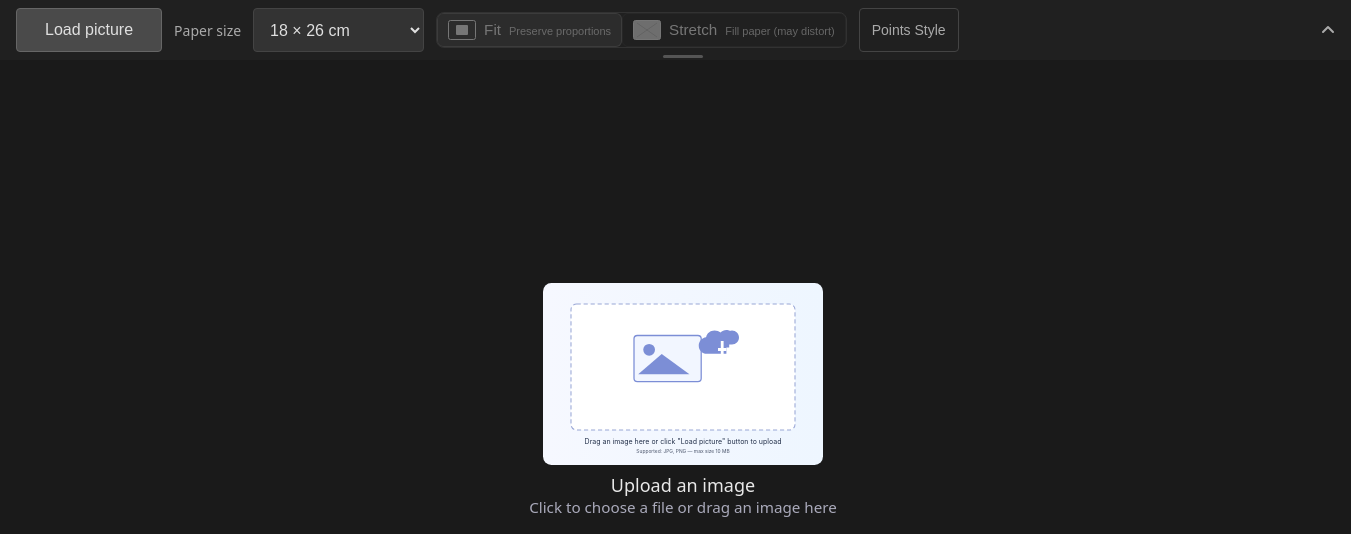
Test: custom size inputs are shown when "Custom…" is selected
The image size is (1351, 534).
Select "Custom…" in the dropdown labelled "Paper size": {"x": 339, "y": 30} left=253, top=8, right=424, bottom=52
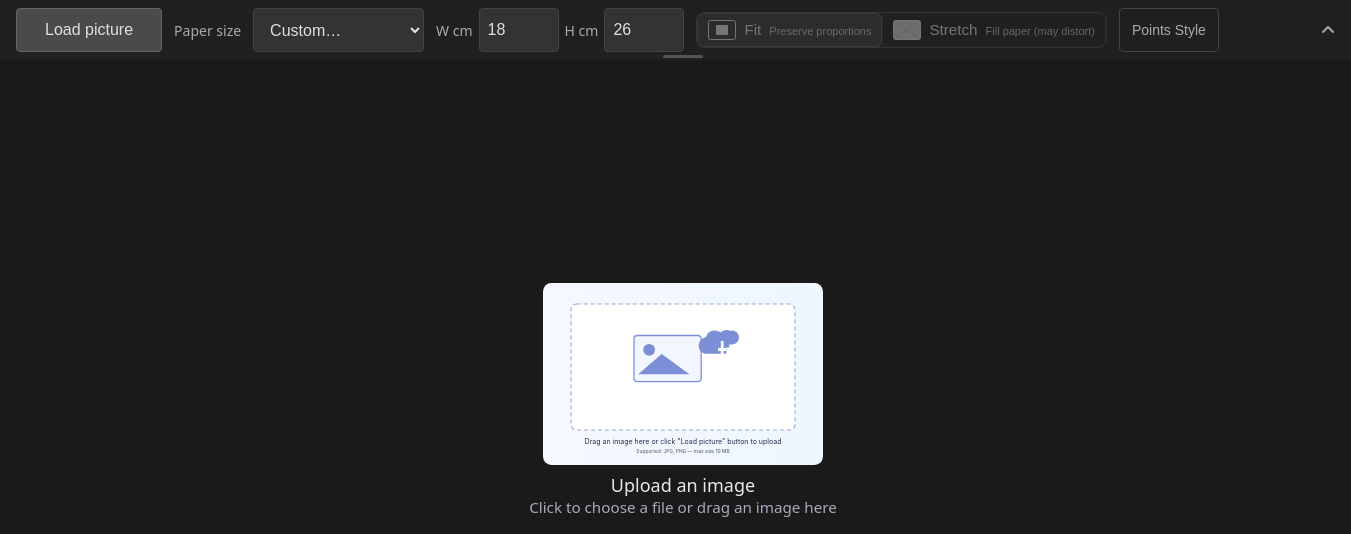
Now the number field labelled "W cm" is shown, box left=479, top=8, right=559, bottom=52
Now the number field labelled "H cm" is shown, box left=604, top=8, right=684, bottom=52
